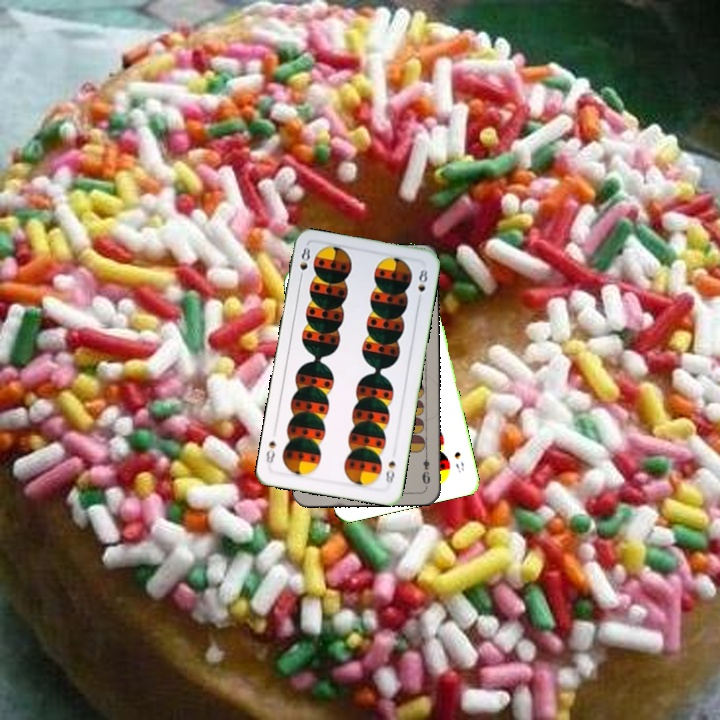E9: (418, 448, 433, 487)
S8: (295, 243, 313, 284), (381, 457, 398, 486), (450, 447, 467, 475)
